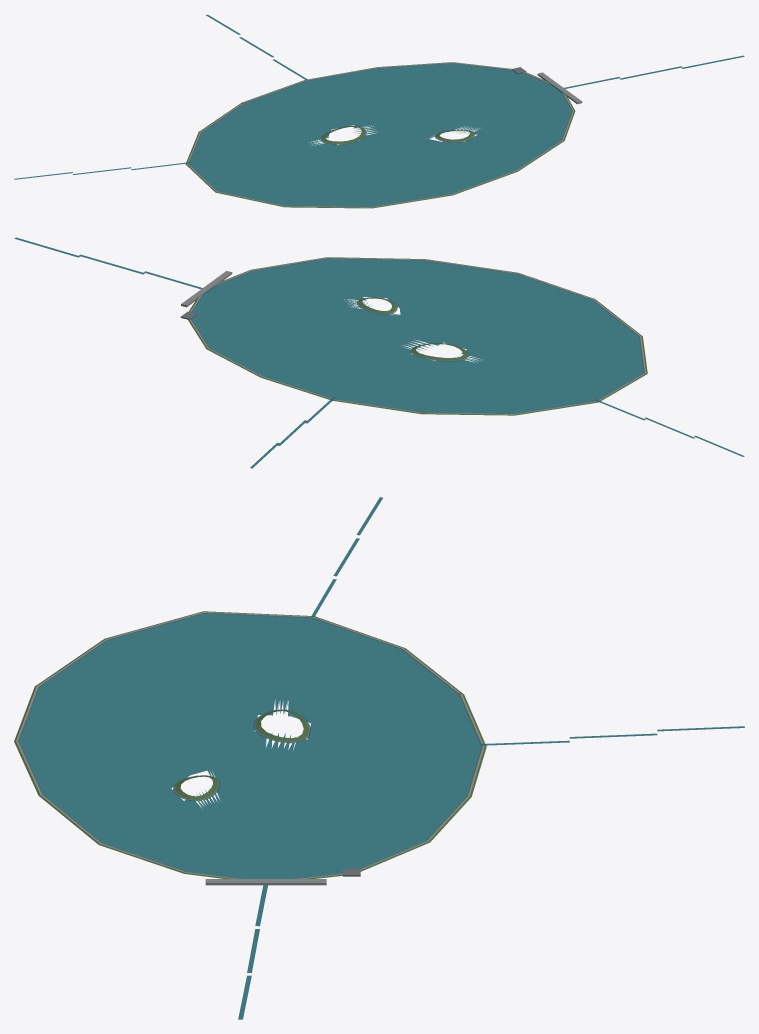
The model's file is water_ho_da_ham_duc_trong.glb.
3 renders of one model, top to bottom at view 1: azimuth 30°, elevation 25°; view 2: azimuth 150°, elevation 25°; view 3: azimuth 270°, elevation 25°, orthographic. The views are drawn at different scales.
Visible parts, largest first — view 1: water_surface_water_ho_da_ham_duc_trong, shoreline_terrain_transition_verge_water_ho_da_ham_duc_trong, lakeside_promenade_walkway_water_ho_da_ham_duc_trong, embankment_stone_coping_water_ho_da_ham_duc_trong, headwater_terraces_stream_da_ham_east_spillway_to_da_nhim; view 2: water_surface_water_ho_da_ham_duc_trong, shoreline_terrain_transition_verge_water_ho_da_ham_duc_trong, lakeside_promenade_walkway_water_ho_da_ham_duc_trong, embankment_stone_coping_water_ho_da_ham_duc_trong, headwater_terraces_stream_da_ham_east_spillway_to_da_nhim; view 3: water_surface_water_ho_da_ham_duc_trong, shoreline_terrain_transition_verge_water_ho_da_ham_duc_trong, lakeside_promenade_walkway_water_ho_da_ham_duc_trong, embankment_stone_coping_water_ho_da_ham_duc_trong, da_ham_main_irrigation_earth_dam_crest.
Part boxes in pixels (bbox=[...]): water_surface_water_ho_da_ham_duc_trong: bbox=[188, 63, 572, 206]; shoreline_terrain_transition_verge_water_ho_da_ham_duc_trong: bbox=[185, 62, 575, 208]; lakeside_promenade_walkway_water_ho_da_ham_duc_trong: bbox=[187, 62, 573, 207]; embankment_stone_coping_water_ho_da_ham_duc_trong: bbox=[188, 63, 572, 207]; headwater_terraces_stream_da_ham_east_spillway_to_da_nhim: bbox=[564, 55, 744, 88]; water_surface_water_ho_da_ham_duc_trong: bbox=[191, 258, 644, 413]; shoreline_terrain_transition_verge_water_ho_da_ham_duc_trong: bbox=[187, 257, 647, 415]; lakeside_promenade_walkway_water_ho_da_ham_duc_trong: bbox=[189, 257, 645, 414]; embankment_stone_coping_water_ho_da_ham_duc_trong: bbox=[191, 258, 644, 413]; headwater_terraces_stream_da_ham_east_spillway_to_da_nhim: bbox=[14, 237, 202, 289]; water_surface_water_ho_da_ham_duc_trong: bbox=[18, 613, 481, 878]; shoreline_terrain_transition_verge_water_ho_da_ham_duc_trong: bbox=[14, 611, 486, 878]; lakeside_promenade_walkway_water_ho_da_ham_duc_trong: bbox=[16, 611, 484, 878]; embankment_stone_coping_water_ho_da_ham_duc_trong: bbox=[18, 612, 482, 878]; da_ham_main_irrigation_earth_dam_crest: bbox=[205, 879, 326, 885].
Size of the model in its own units: 3227 by 48.5 by 1963.
